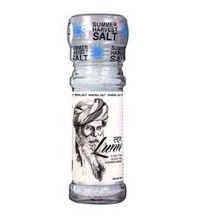bottle: (60, 7, 134, 209)
